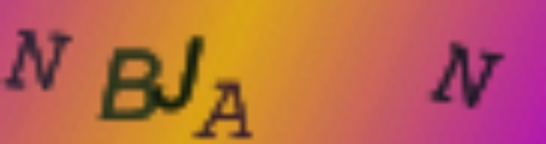A: (190, 78, 254, 142)
B: (92, 45, 164, 127)
J: (152, 32, 208, 115)
N: (426, 40, 507, 111), (1, 25, 78, 95)
